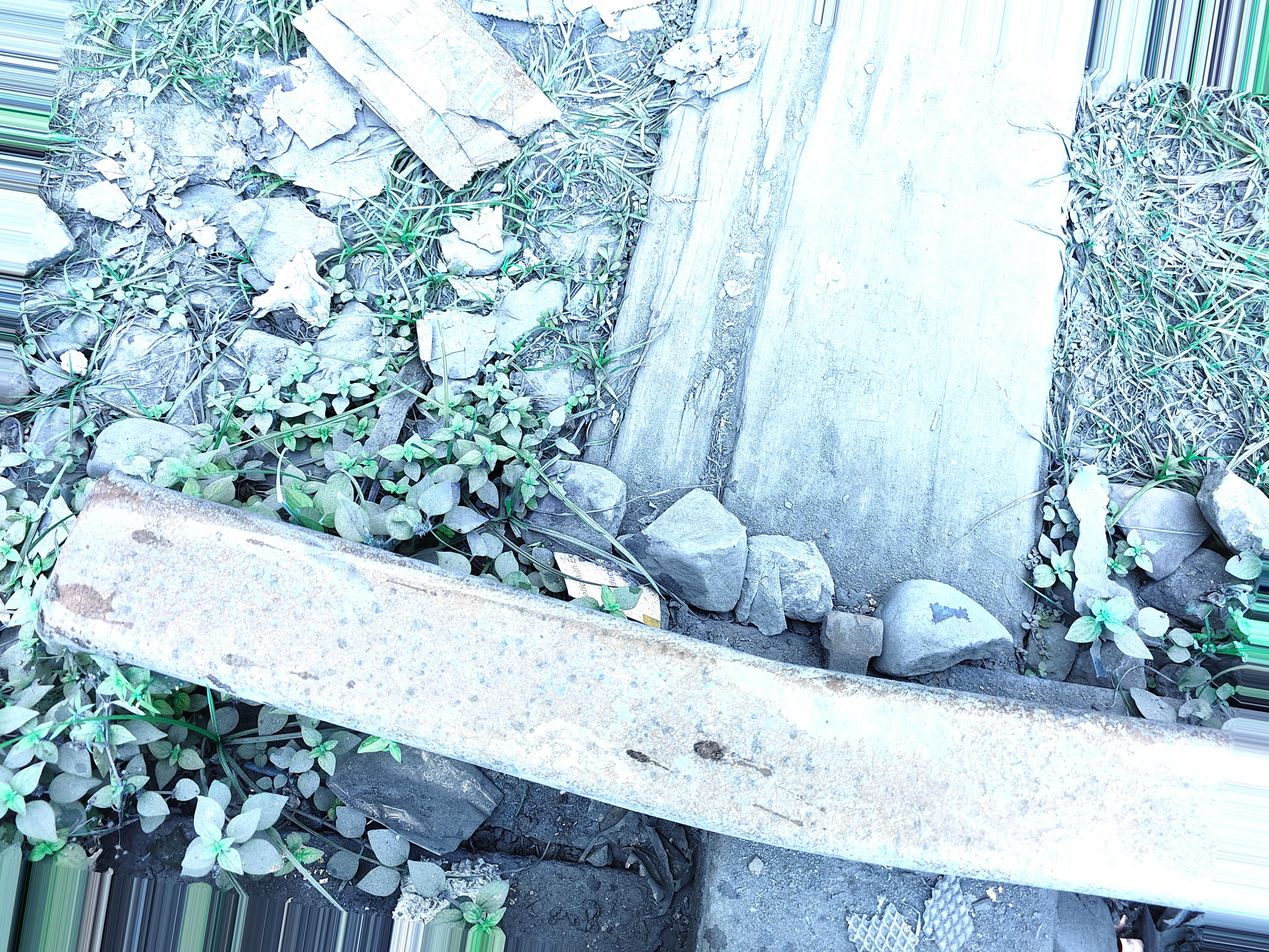tracks_fault: (38, 353, 801, 895)
